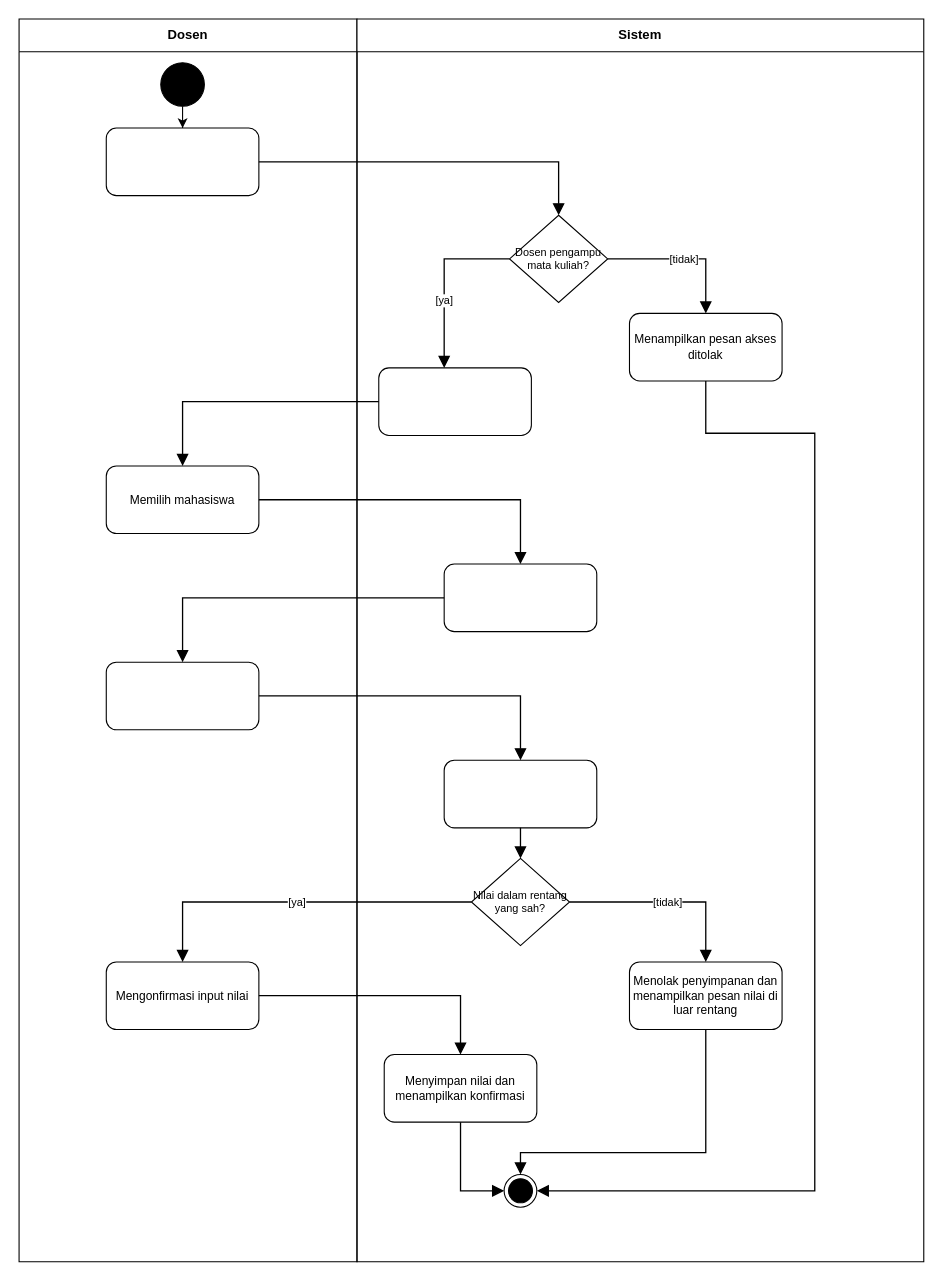
This 943x1281 diagram has some shape labels left out. The shapes that lost their labels are listed below. From the top down, each one's box as (x1, y1, x2, y2) in pixels, then its label:
(105, 127, 259, 196): Membuka fungsi Input Nilai Mata Kuliah
(378, 367, 531, 435): Menampilkan daftar mahasiswa pada mata kuliah yang diampu
(443, 563, 597, 632): Menampilkan data nilai saat ini, jika ada
(105, 661, 259, 730): Menginput nilai mahasiswa
(443, 759, 597, 828): Memeriksa keabsahan nilai
